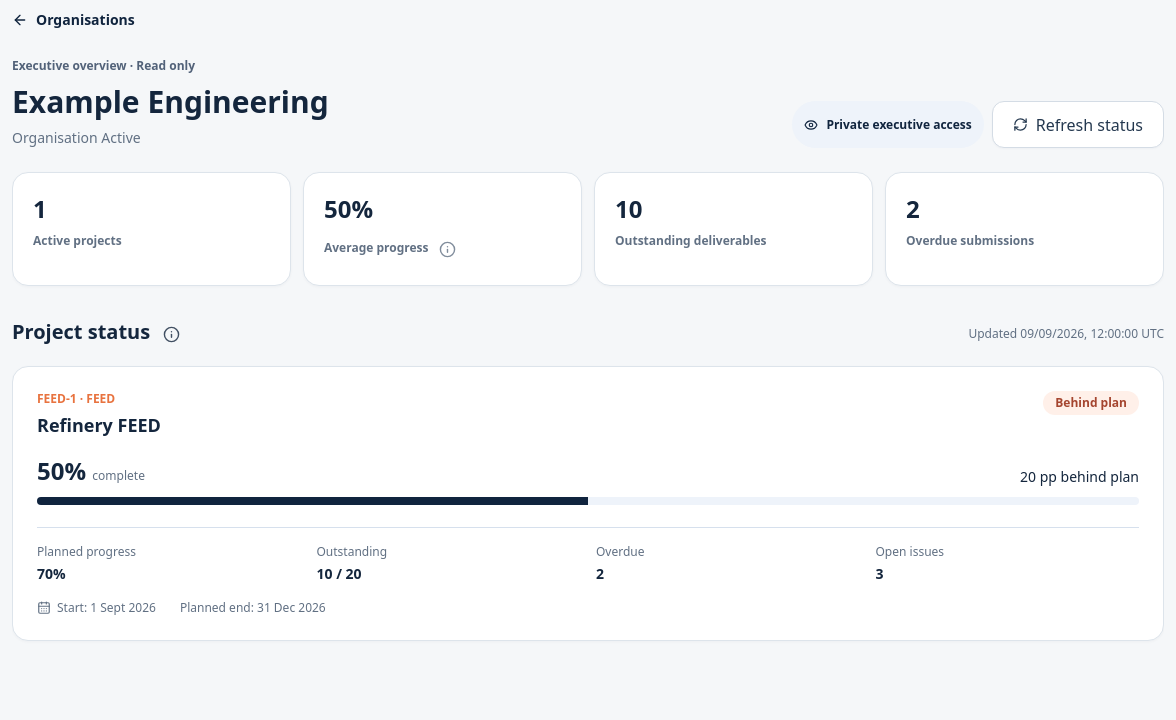
minimal executive dashboard › keeps explanatory copy behind the help icon
Click the button named "Executive progress measures".
click(171, 334)  # box [155, 318, 187, 350]
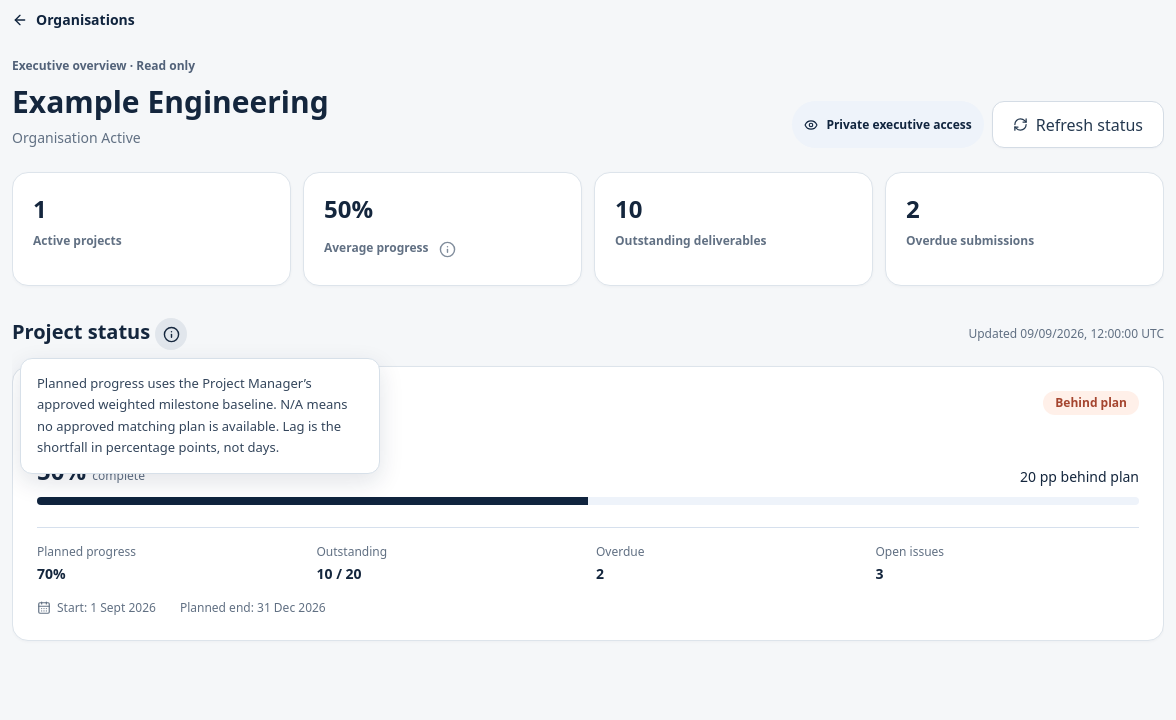
Now the tooltip shows "percentage points, not days", box [37, 374, 348, 456]
